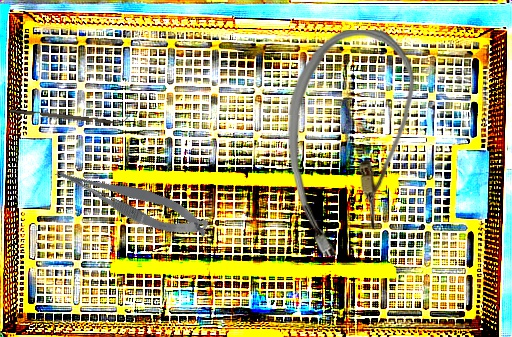Cannula: (286, 28, 419, 258)
Chopper: (9, 102, 129, 128)
Micro Scissor: (49, 146, 215, 254)
